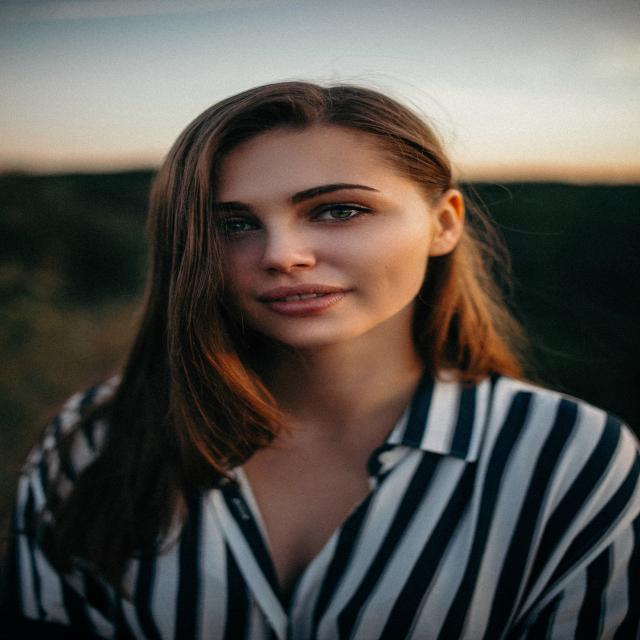adult: (20, 76, 614, 640)
